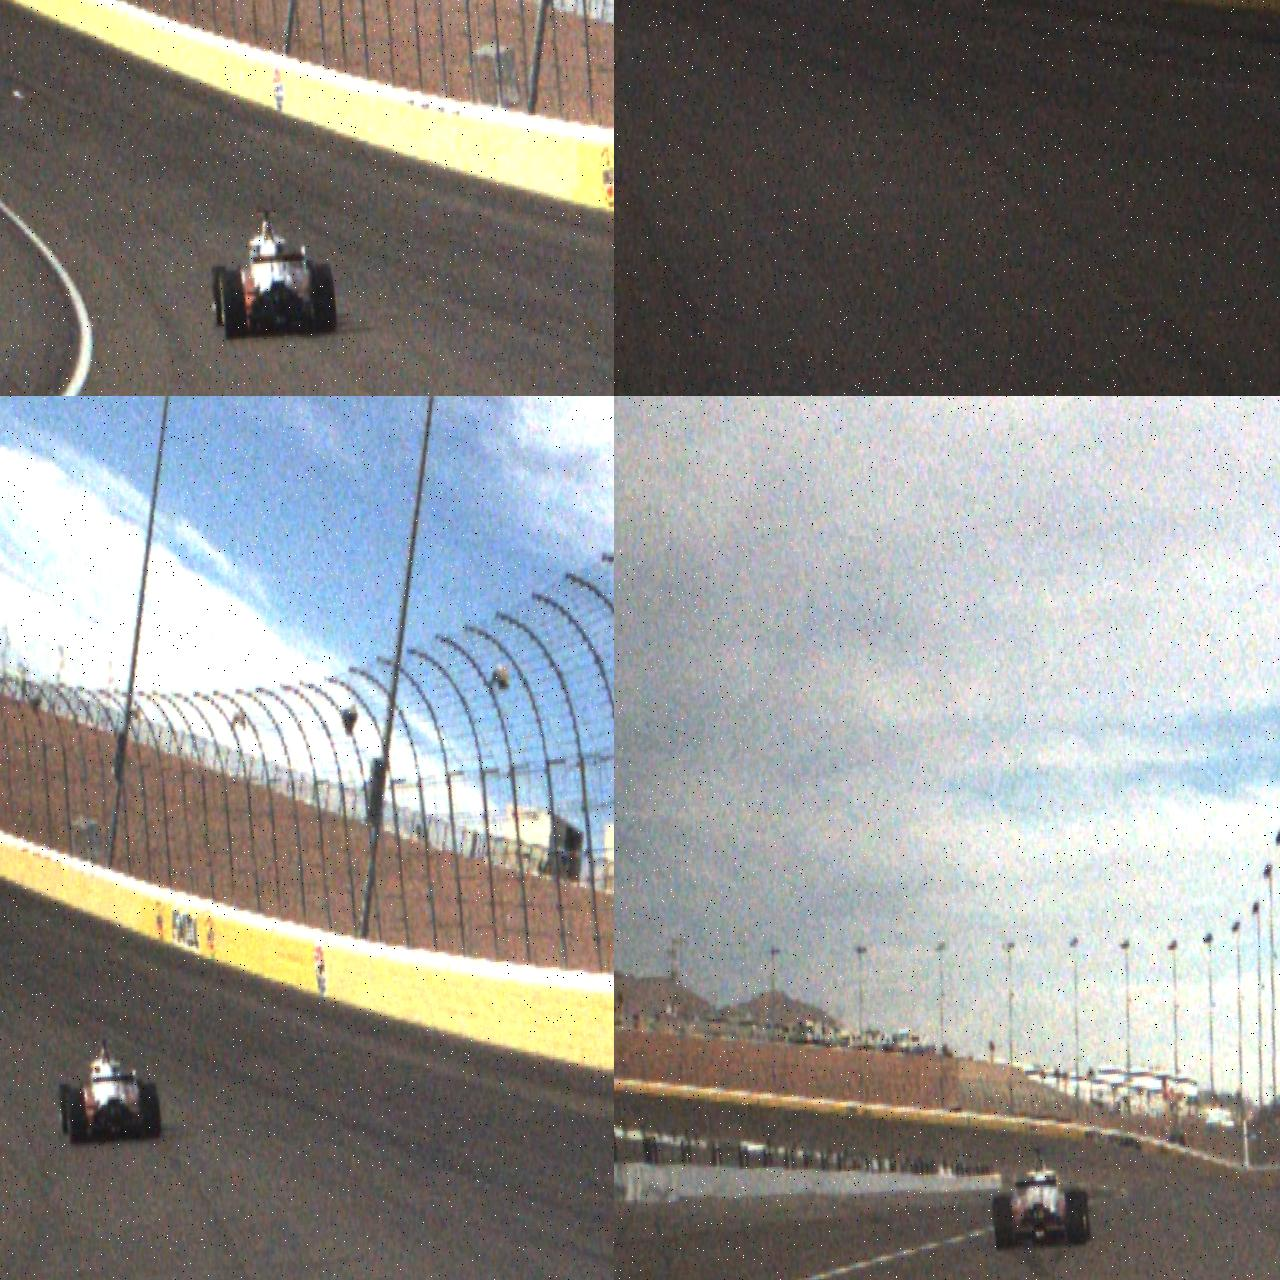AV: (206, 203, 339, 342), (55, 1032, 163, 1148), (988, 1144, 1092, 1252)
Wheel: (219, 270, 246, 340), (313, 263, 338, 334), (1064, 1190, 1088, 1246), (992, 1194, 1014, 1251), (210, 265, 230, 327), (142, 1082, 163, 1141), (67, 1088, 87, 1145), (57, 1083, 74, 1136)
